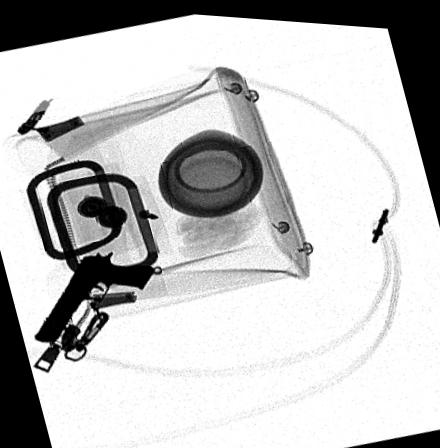Gun: (33, 245, 153, 345)
